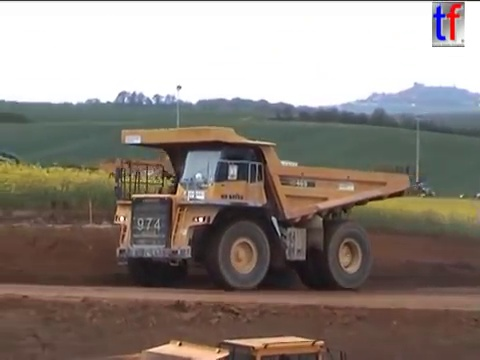truck: (106, 123, 411, 292), (98, 332, 350, 360)
